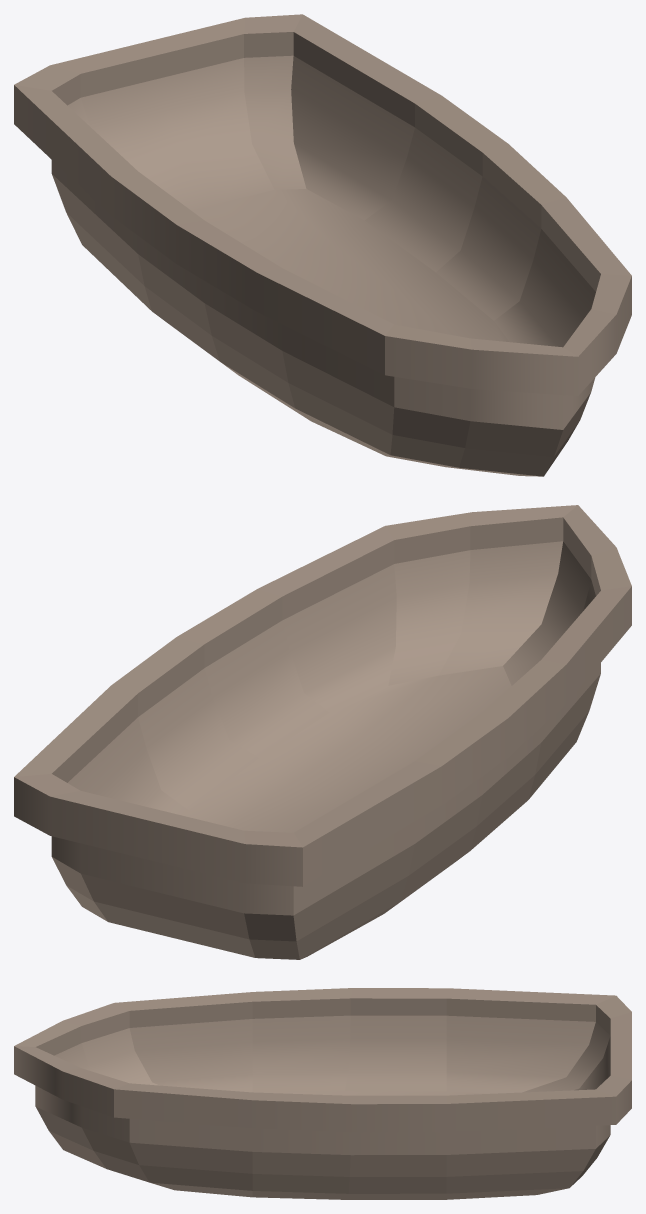
Rendered from Sharp Boat FBX.fbx.
The picture shows the model from 3 angles, top to bottom: view 1: azimuth 30°, elevation 25°; view 2: azimuth 150°, elevation 25°; view 3: azimuth 270°, elevation 25°; orthographic projection. The views are drawn at different scales.
Parts seen in each view (by area): view 1: pCube1; view 2: pCube1; view 3: pCube1.
Boxes of the visible parts, x1,y1,x2,y2 form: pCube1: (14,14,631,476); pCube1: (14,505,631,959); pCube1: (14,988,631,1199).
Size of the model in its own units: 2.06 by 0.9585 by 4.63.
